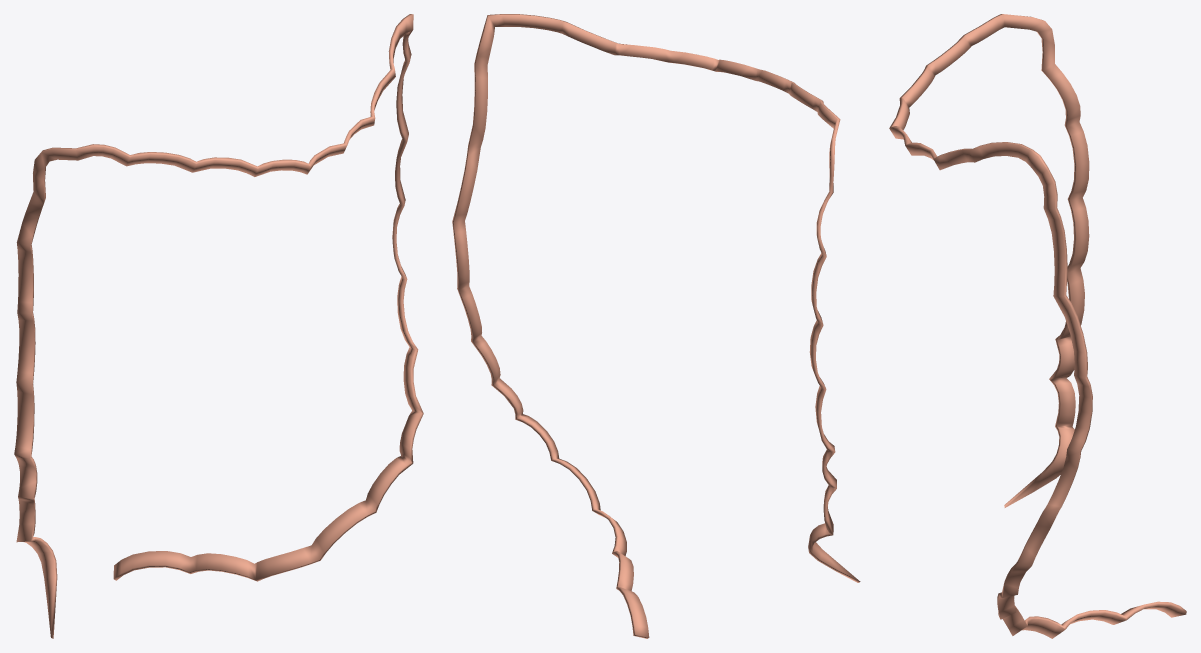
File: visceras-free-taenia.glb
3 renders of one model, left to right at view 1: azimuth 30°, elevation 25°; view 2: azimuth 150°, elevation 25°; view 3: azimuth 270°, elevation 25°, orthographic. The views are drawn at different scales.
Parts seen in each view (by area): view 1: Free taenia; view 2: Free taenia; view 3: Free taenia.
Part boxes in pixels (x1,y1,x2,y2): Free taenia: (14,14,423,638); Free taenia: (452,14,860,638); Free taenia: (889,14,1186,638).
Bounding box in the file's own units: 0.1511 × 0.202 × 0.0939.
